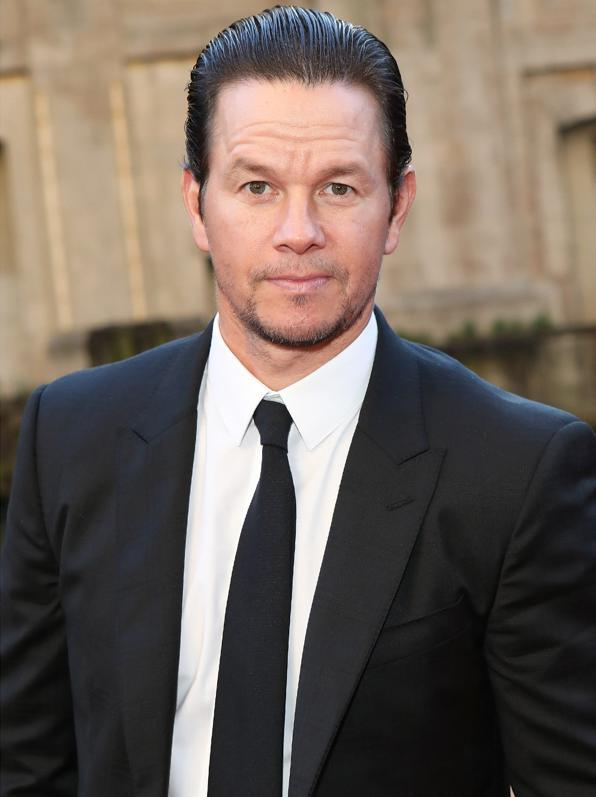Sober: (206, 97, 381, 330)
